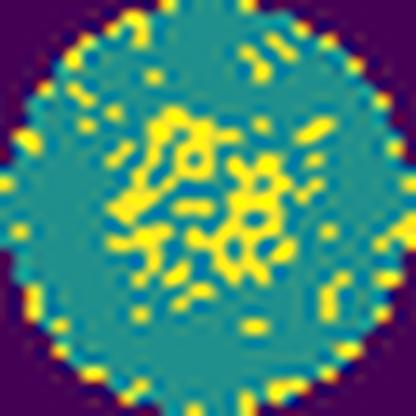Donut: (87, 83, 333, 330)
